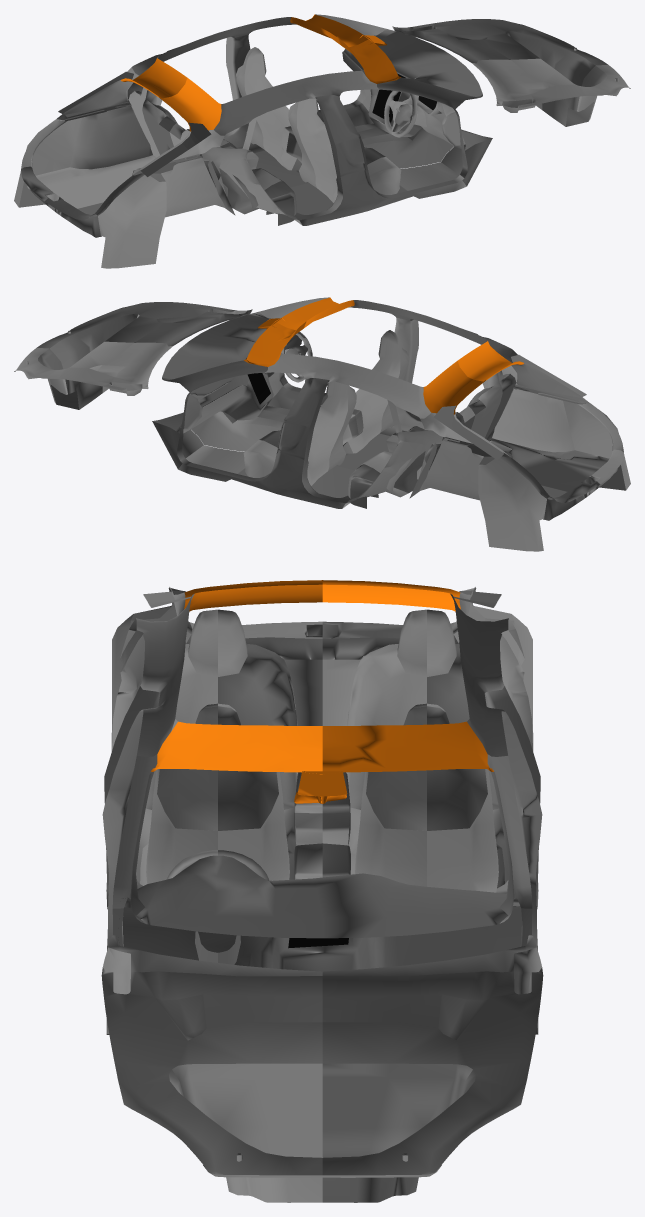
Rendered from Interior_Executive_RHD.obj.
The picture shows the model from 3 angles, top to bottom: view 1: azimuth 30°, elevation 25°; view 2: azimuth 150°, elevation 25°; view 3: azimuth 270°, elevation 25°; orthographic projection. The views are drawn at different scales.
Visible parts, largest first — view 1: Interior_Executive_RHD; view 2: Interior_Executive_RHD; view 3: Interior_Executive_RHD.
Boxes of the visible parts, bbox=[...] form: Interior_Executive_RHD: bbox=[14, 14, 630, 268]; Interior_Executive_RHD: bbox=[14, 297, 630, 551]; Interior_Executive_RHD: bbox=[101, 580, 543, 1202].
Size of the model in its own units: 4.79 by 1.14 by 1.62.
